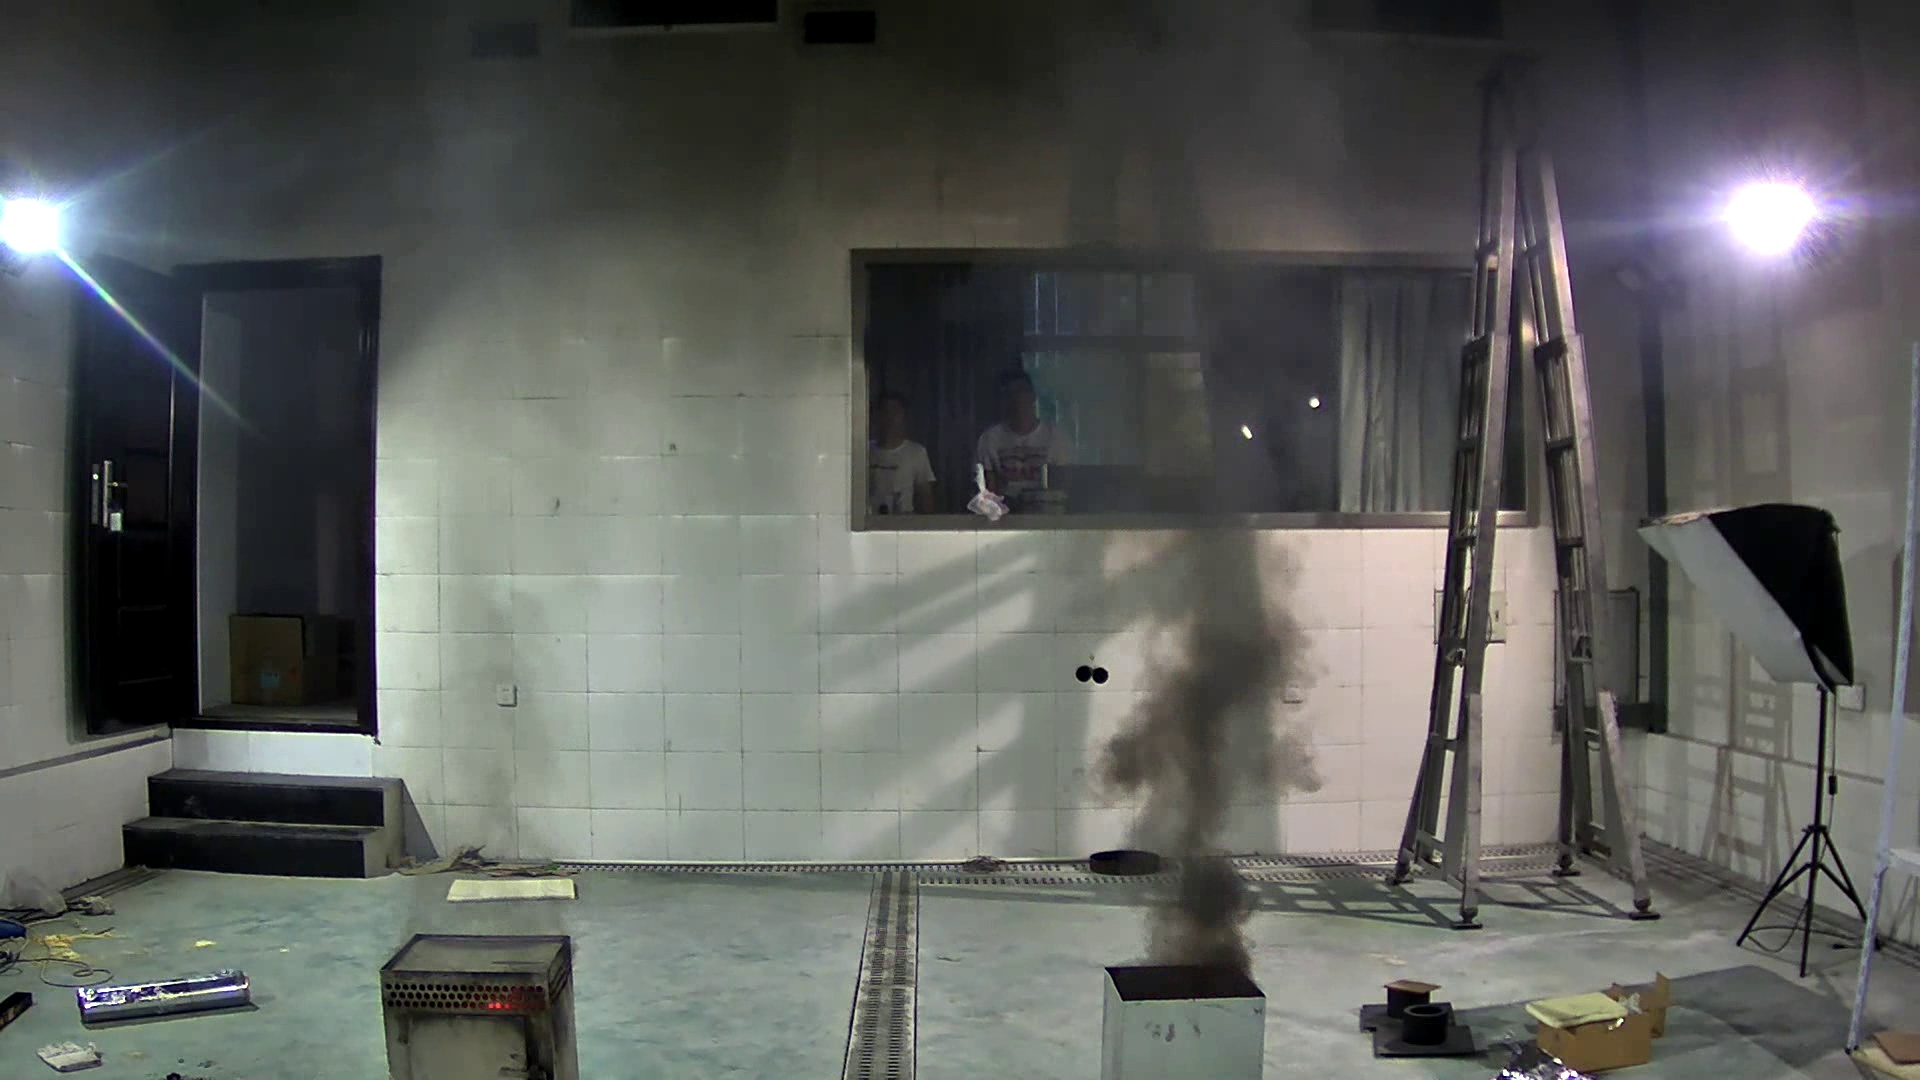smoke: (1095, 535, 1321, 963)
